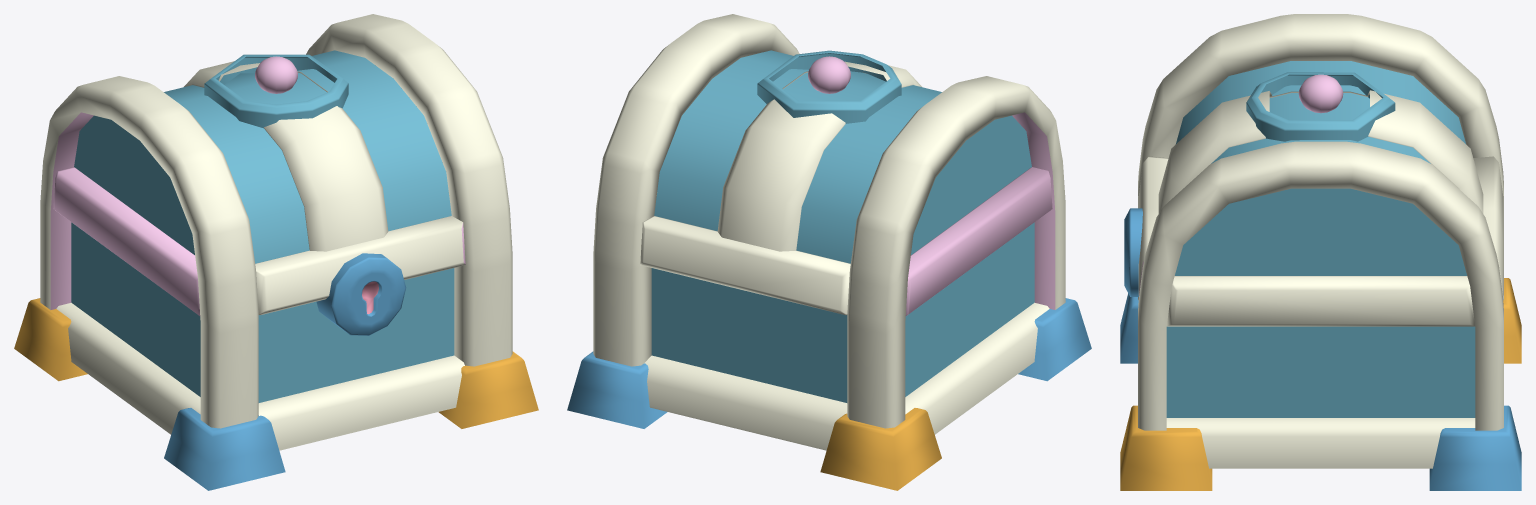
File: Chest.fbx
3 renders of one model, left to right at view 1: azimuth 30°, elevation 25°; view 2: azimuth 150°, elevation 25°; view 3: azimuth 270°, elevation 25°, orthographic. The views are drawn at different scales.
Visible parts, largest first — view 1: Chest; view 2: Chest; view 3: Chest.
Boxes of the visible parts, <box> form: Chest: <box>14,14,538,490</box>; Chest: <box>567,14,1091,490</box>; Chest: <box>1120,14,1521,490</box>.
Size of the model in its own units: 1.86 by 1.89 by 1.89.
